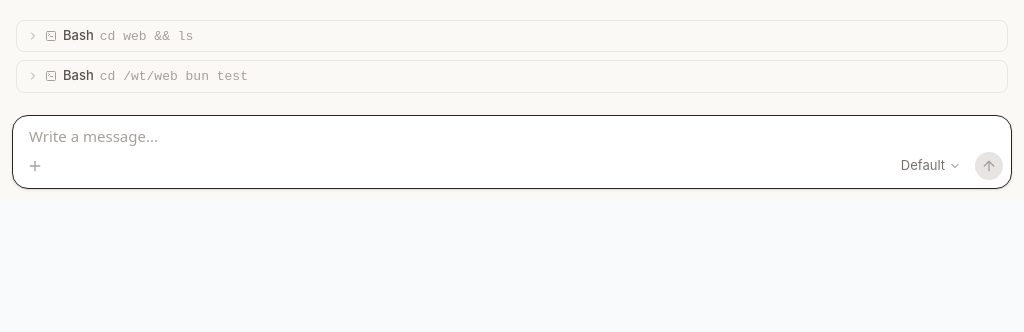
a shell_cwd read by the daemon captions the command after it › shows the directory the previous command left the shell in
This screenshot has width=1024, height=332.
Expected: the text box is enabled, [13,116,1011,150]
Step 1. Click the 2nd button "Bash" → (138, 76), box [27,67,248,84]
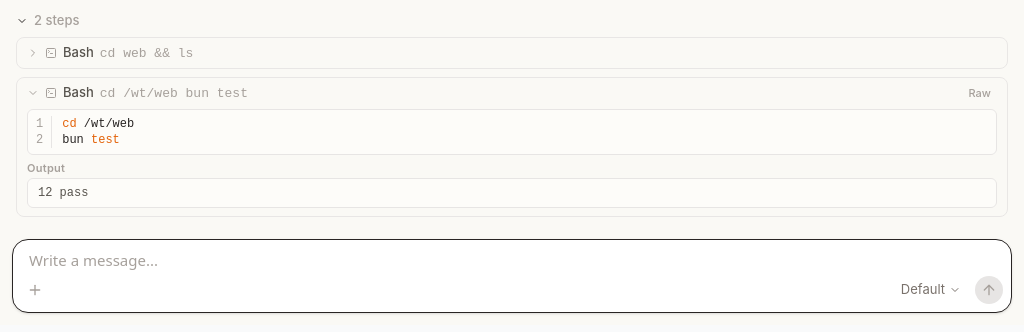
Expected: the button "Bash Raw" is expanded, [17,78,1007,109]
